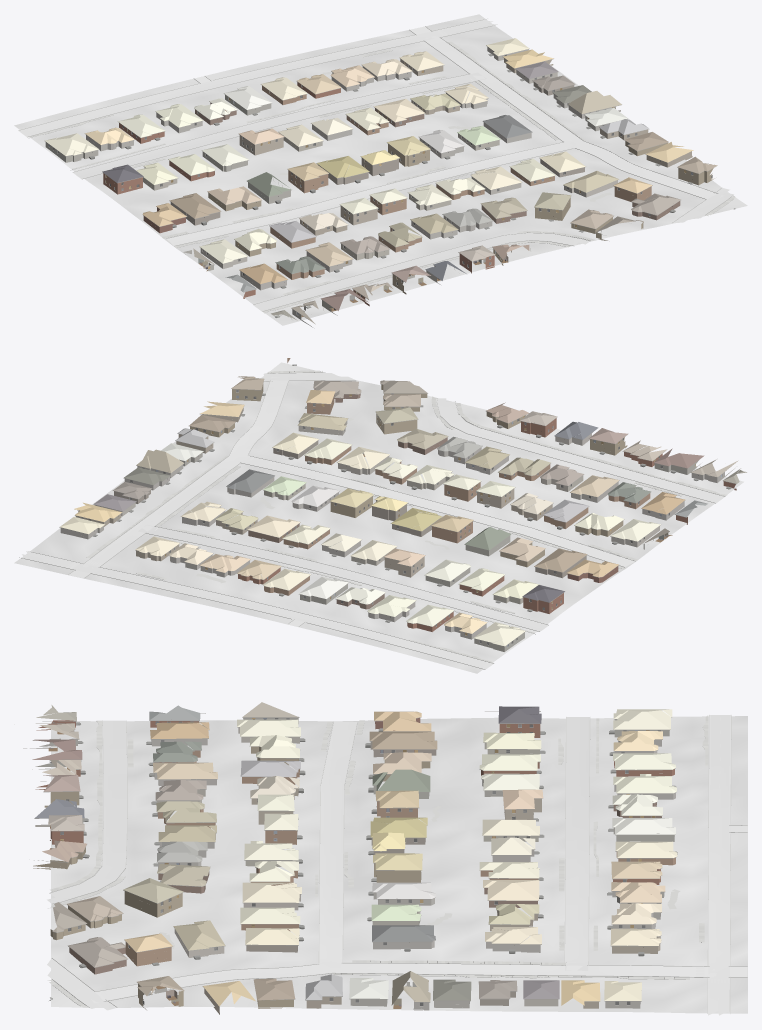
The picture shows the model from 3 angles, top to bottom: view 1: azimuth 30°, elevation 25°; view 2: azimuth 150°, elevation 25°; view 3: azimuth 270°, elevation 25°; orthographic projection. The views are drawn at different scales.
Visible parts, largest first — view 1: ground, roof, concrete, wall, detail, curb, wall_stucco, asphalt, walk, wall_stone, glass; view 2: ground, roof, concrete, wall, detail, wall_stucco, curb, asphalt, wall_stone, walk, glass; view 3: ground, roof, concrete, wall, asphalt, detail, walk, curb, wall_stucco, wall_stone, glass, mark_w.
Boxes of the visible parts, x1,y1,x2,y2 form: ground: [14, 14, 747, 325]; roof: [45, 38, 717, 324]; concrete: [73, 26, 733, 311]; wall: [103, 58, 714, 306]; detail: [45, 45, 735, 319]; curb: [18, 18, 733, 312]; wall_stucco: [45, 70, 617, 315]; asphalt: [19, 20, 496, 136]; walk: [28, 41, 735, 313]; wall_stone: [86, 47, 620, 327]; glass: [53, 54, 712, 297]; ground: [14, 362, 743, 673]; roof: [60, 376, 746, 646]; concrete: [69, 373, 724, 631]; wall: [75, 358, 736, 631]; detail: [59, 364, 736, 647]; wall_stucco: [94, 421, 700, 651]; curb: [19, 372, 725, 669]; asphalt: [22, 551, 493, 669]; wall_stone: [60, 447, 734, 639]; walk: [86, 370, 727, 663]; glass: [81, 390, 669, 644]; ground: [51, 716, 747, 1013]; roof: [32, 702, 677, 1006]; concrete: [47, 717, 747, 1010]; wall: [33, 718, 675, 1014]; asphalt: [708, 715, 731, 1015]; detail: [32, 711, 677, 1006]; walk: [47, 715, 708, 1007]; curb: [48, 715, 747, 1013]; wall_stucco: [32, 717, 674, 1006]; wall_stone: [23, 730, 675, 1010]; glass: [49, 718, 660, 1005]; mark_w: [103, 715, 729, 1014].
Size of the model in its own units: 262 by 13.72 by 263.
